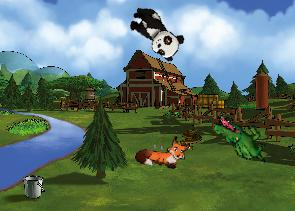crocodile: (207, 113, 274, 164)
fox: (134, 129, 191, 173)
panda: (122, 1, 188, 64)
